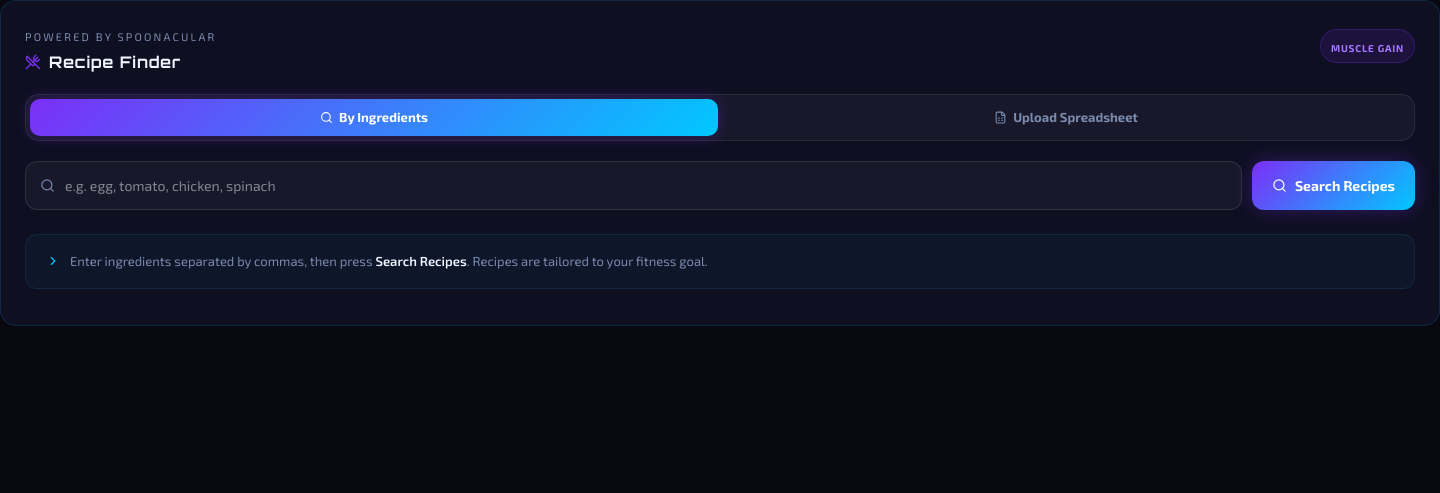
Test: RecipeRecommendations — Excel Upload › renders the Excel upload tab and switches to it
This screenshot has width=1440, height=493.
Click the button "Upload Spreadsheet": [1066, 117] box left=722, top=98, right=1410, bottom=136
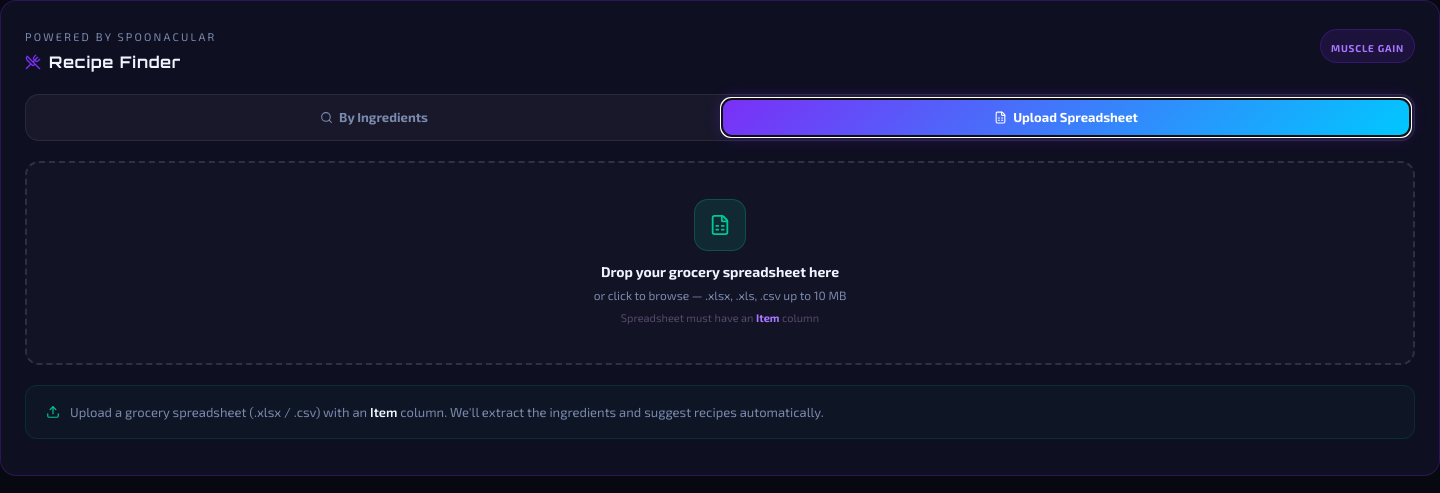
expect the element with test id "excel-file-input" is shown: met, box left=25, top=161, right=1415, bottom=364
